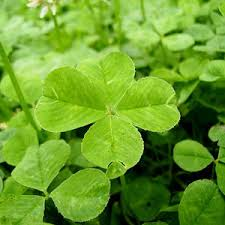4-clover: (34, 54, 183, 167)
